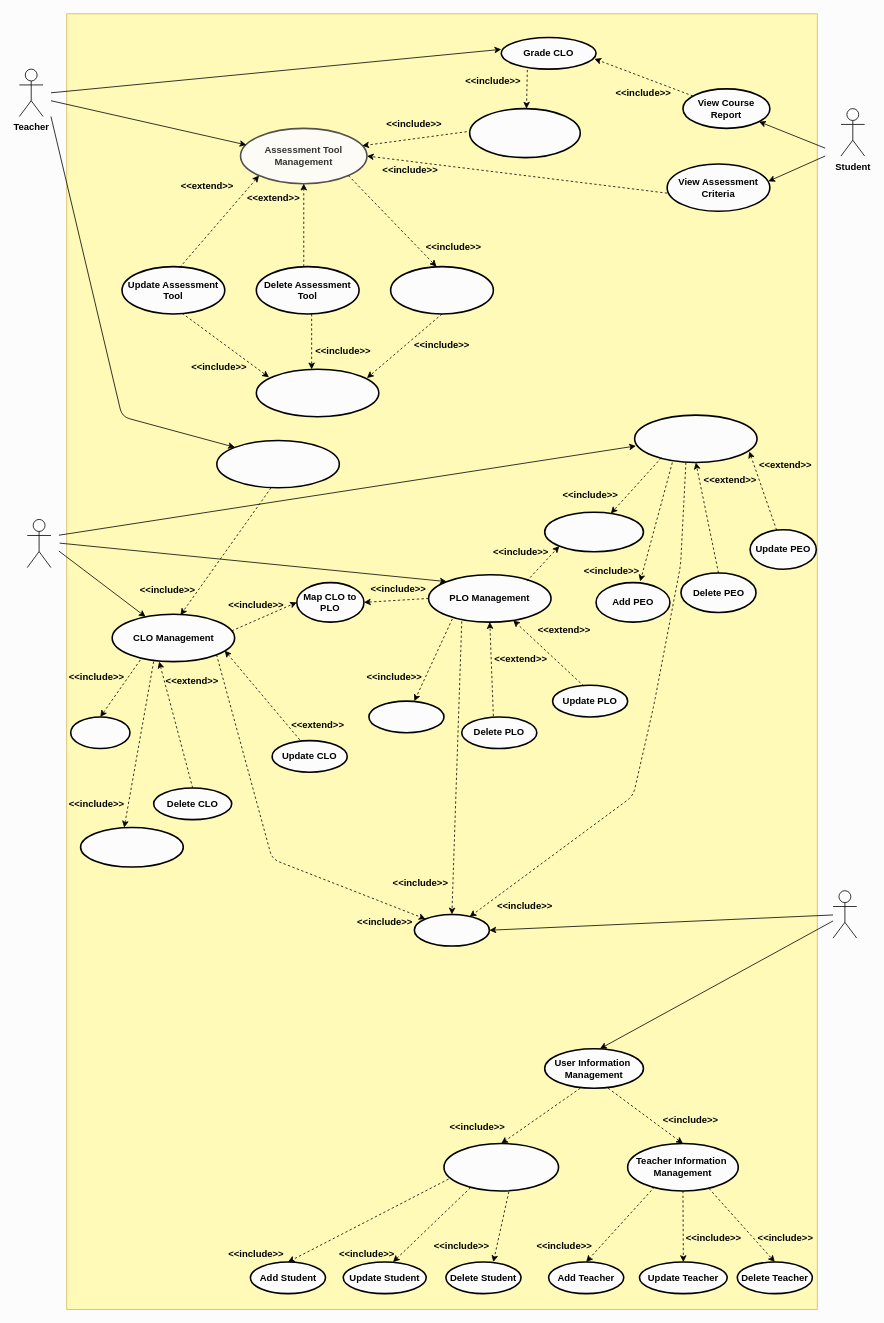
This 884x1323 diagram has some shape labels left out. Here are the shapes that lost their labels. From the top down, the centre of each, then its label:
At pixel 524 132: "Grade Assessment Tool".
At pixel 441 289: "Add Assessment Tool".
At pixel 317 392: "Map Assessment Tool to CLO".
At pixel 695 438: "PEO Management".
At pixel 278 463: "Request for CLO Management".
At pixel 38 543: "OBE Cell".
At pixel 594 531: "Map PLO to PEO".
At pixel 100 732: "Add CLO".
At pixel 406 716: "Add PLO".
At pixel 131 846: "Add CLO Passing Criteria".
At pixel 451 929: "Commit".
At pixel 844 914: "Admin".
At pixel 501 1166: "Student Information Management".
